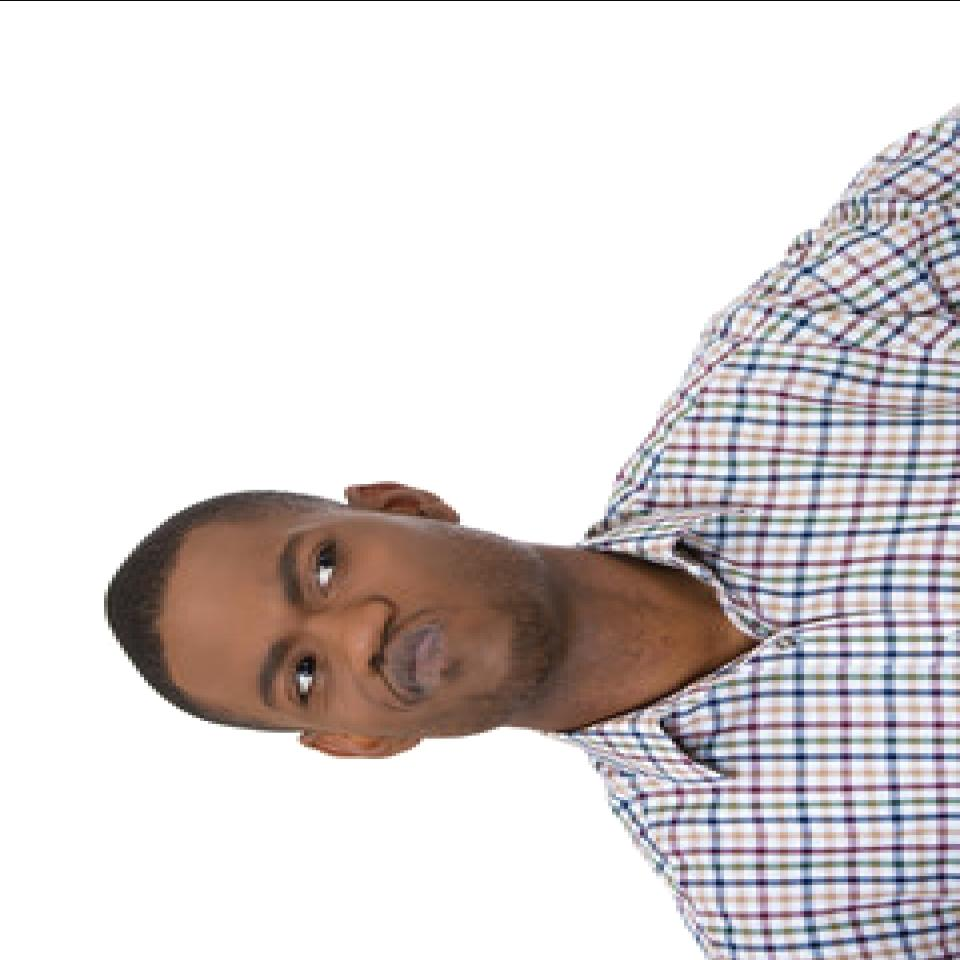Disgust: (206, 496, 557, 738)
